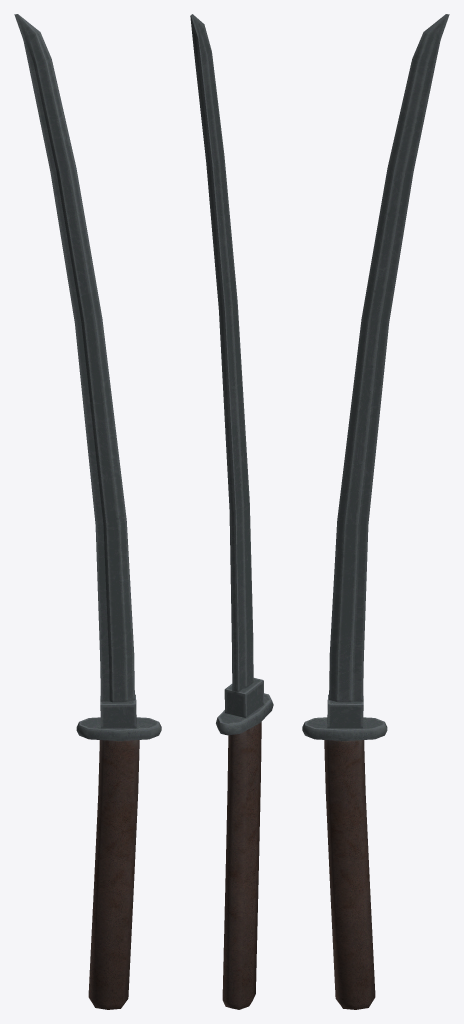
The model's file is katana.glb.
3 views of the same model, side by side, from view 1: azimuth 90°, elevation 25°; view 2: azimuth 150°, elevation 25°; view 3: azimuth 270°, elevation 25° (orthographic). The views are drawn at different scales.
Parts seen in each view (by area): view 1: katana; view 2: katana; view 3: katana.
Part boxes in pixels (x1,y1,x2,y2): katana: (14, 14, 161, 1009); katana: (190, 14, 273, 1009); katana: (302, 14, 449, 1009).
Size of the model in its own units: 0.0693 by 2.1 by 0.2823.
Materials: 1 (1 with a texture image).
